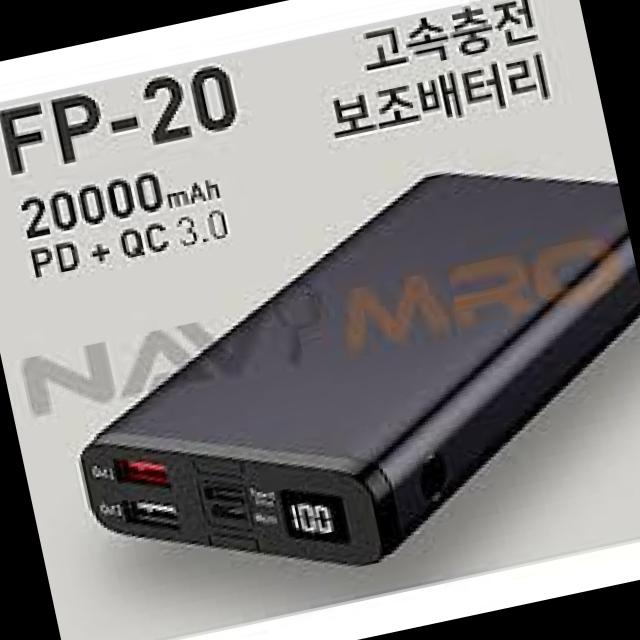power_bank: (30, 135, 640, 620)
